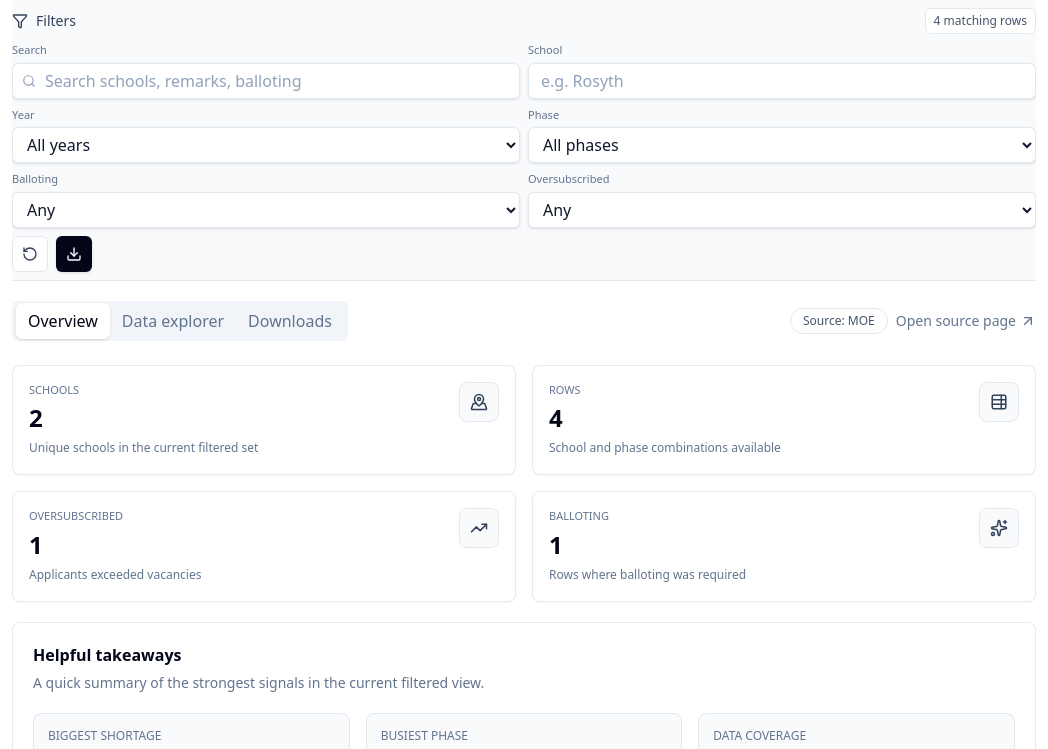
Test: Dashboard › uses phase 0 for total vacancies and derives phase 1 applicants from phase 2A vacancies
This screenshot has width=1048, height=749.
Click the tab "Data explorer" at (173, 320), box [110,302,236,338]
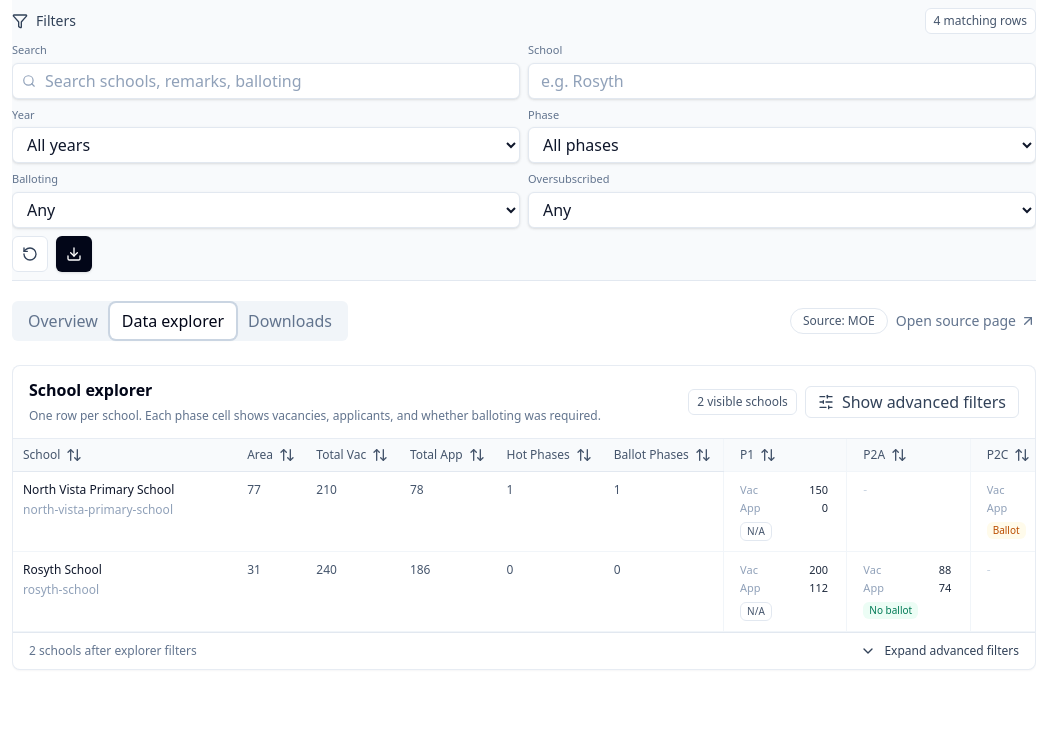
Check: the button named "sort by p1" is shown, box [740,446,776,462]
Check: the button named "sort by p2c" is shown, box [987,446,1030,462]
Check: the row that starts with "Rosyth School" is shown, box [13,551,1035,632]
